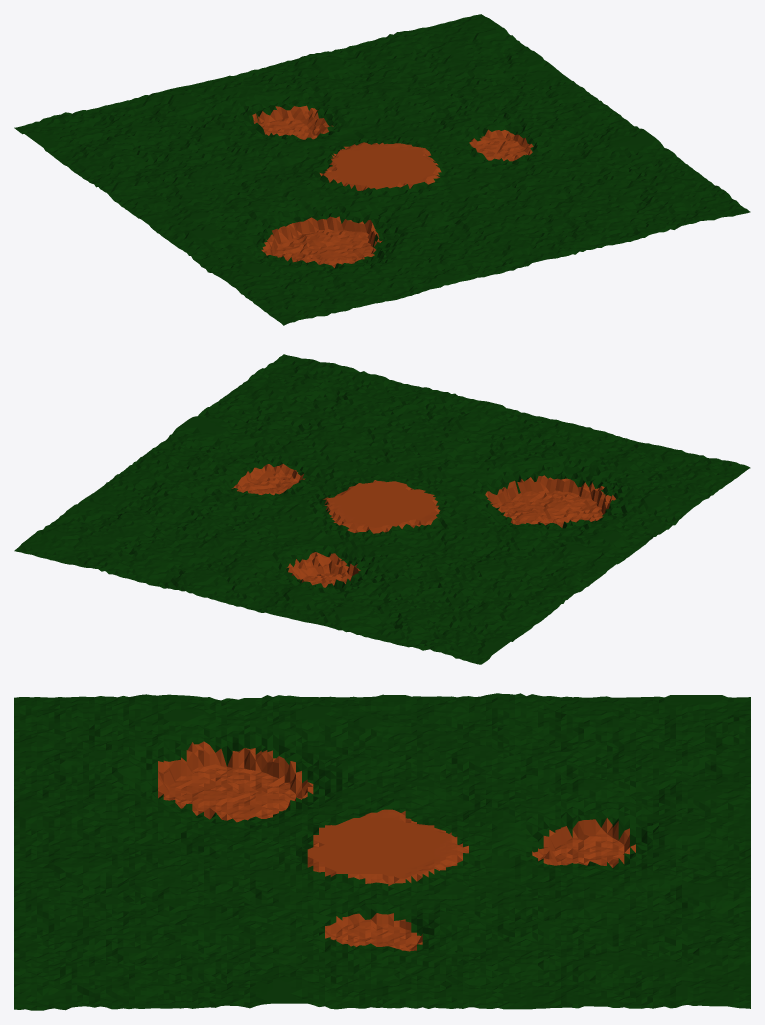
File: startTerrain(new).obj
The picture shows the model from 3 angles, top to bottom: view 1: azimuth 30°, elevation 25°; view 2: azimuth 150°, elevation 25°; view 3: azimuth 270°, elevation 25°; orthographic projection. The views are drawn at different scales.
Visible parts, largest first — view 1: Plane; view 2: Plane; view 3: Plane.
Boxes of the visible parts, x1,y1,x2,y2 form: Plane: (14,14,750,325); Plane: (14,354,750,664); Plane: (14,693,750,1010).
Bounding box in the file's own units: 15.76 × 0.717 × 15.76.
